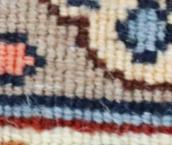Knot: (30, 94, 43, 105), (66, 25, 78, 36), (129, 114, 141, 125), (28, 132, 40, 143), (144, 10, 156, 21), (63, 47, 75, 58), (30, 105, 42, 116), (73, 58, 86, 68), (141, 71, 152, 82), (32, 83, 43, 94), (62, 82, 73, 93), (123, 39, 134, 50), (43, 82, 53, 94), (30, 117, 40, 129), (141, 62, 154, 71), (40, 108, 53, 117), (91, 111, 101, 122), (121, 91, 131, 102), (55, 25, 65, 36), (10, 129, 20, 140), (37, 3, 48, 13), (101, 111, 111, 122), (86, 39, 96, 50), (45, 47, 55, 58), (20, 129, 30, 140), (25, 45, 35, 56), (111, 112, 121, 123), (63, 97, 73, 108), (33, 71, 43, 82), (20, 105, 30, 116), (156, 10, 166, 21), (55, 47, 65, 58), (73, 99, 85, 108), (154, 41, 166, 50), (152, 73, 164, 82), (65, 16, 78, 24), (103, 90, 113, 100), (114, 59, 123, 70), (133, 53, 144, 62), (75, 47, 86, 56), (52, 108, 63, 117), (12, 76, 23, 85), (42, 96, 53, 105), (70, 134, 81, 143), (141, 102, 152, 111), (75, 85, 83, 97), (25, 13, 37, 21), (73, 108, 81, 120), (151, 91, 161, 100), (141, 91, 151, 100), (12, 85, 22, 94), (35, 24, 45, 33), (68, 7, 78, 16), (134, 42, 144, 51), (40, 120, 50, 129), (48, 4, 58, 13), (35, 47, 45, 56), (25, 24, 35, 33), (15, 24, 25, 33), (81, 111, 91, 120), (131, 91, 141, 100), (45, 35, 55, 44), (37, 13, 47, 22), (78, 7, 88, 16), (80, 134, 90, 143), (116, 10, 126, 19), (78, 18, 88, 27), (144, 42, 154, 51), (123, 71, 133, 80), (15, 33, 25, 42), (53, 73, 63, 82), (119, 123, 129, 132), (116, 21, 126, 30), (123, 50, 133, 59), (95, 59, 105, 68), (73, 76, 83, 85), (15, 44, 25, 53), (5, 33, 15, 42), (83, 76, 93, 85), (90, 134, 100, 143), (139, 123, 149, 132), (139, 134, 149, 143), (118, 134, 128, 143), (35, 35, 45, 44), (12, 96, 22, 105), (47, 24, 55, 35), (12, 105, 20, 116), (2, 105, 10, 116), (27, 33, 35, 44), (128, 10, 136, 21), (48, 15, 57, 24), (109, 134, 118, 143), (53, 82, 62, 91), (5, 44, 14, 53), (162, 91, 171, 100), (96, 50, 105, 59), (43, 73, 52, 82), (114, 41, 123, 50), (114, 50, 123, 59), (23, 65, 32, 74), (53, 97, 63, 105), (15, 13, 25, 21), (105, 61, 113, 71), (113, 90, 121, 100), (93, 68, 103, 76), (76, 39, 86, 47), (73, 68, 83, 76), (43, 65, 53, 73), (103, 71, 113, 79), (131, 80, 141, 88), (7, 3, 15, 13), (136, 32, 144, 42), (55, 36, 65, 44), (106, 39, 113, 50), (100, 134, 108, 143), (7, 24, 15, 33), (35, 56, 43, 65), (7, 13, 15, 22), (83, 88, 91, 97), (109, 123, 118, 131), (93, 90, 101, 99), (133, 71, 141, 80), (86, 50, 95, 58), (22, 85, 30, 94), (4, 85, 12, 94), (103, 79, 111, 88), (123, 61, 131, 70), (156, 32, 164, 41), (93, 76, 101, 85), (80, 120, 88, 129), (78, 30, 86, 39), (149, 134, 157, 143), (91, 123, 100, 131), (113, 79, 121, 87), (58, 7, 66, 15), (101, 123, 109, 131), (85, 68, 93, 76), (123, 80, 131, 88), (4, 65, 12, 73), (86, 59, 93, 68), (73, 120, 80, 129), (164, 73, 171, 82), (55, 117, 62, 126), (113, 71, 123, 77), (58, 16, 65, 24), (133, 64, 141, 71), (166, 10, 171, 21), (166, 33, 171, 42), (166, 24, 171, 32)
